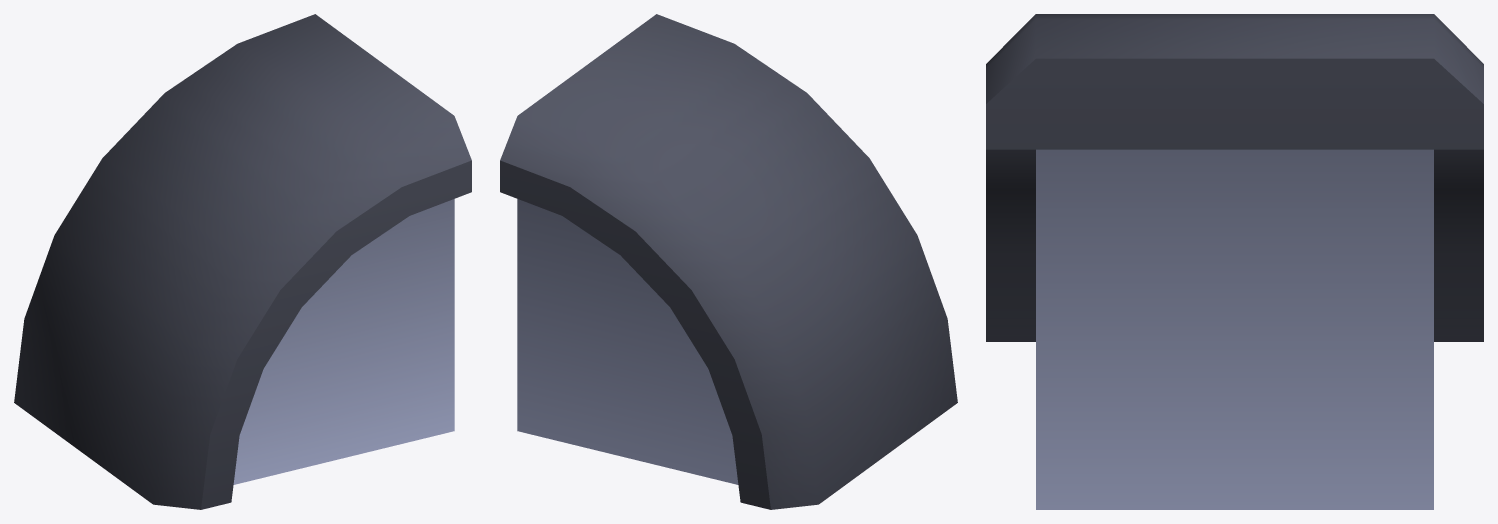
The model's file is block-snow-curve-half.glb.
3 views of the same model, side by side, from view 1: azimuth 30°, elevation 25°; view 2: azimuth 150°, elevation 25°; view 3: azimuth 270°, elevation 25° (orthographic). The views are drawn at different scales.
Visible parts, largest first — view 1: block-snow-curve-half; view 2: block-snow-curve-half; view 3: block-snow-curve-half.
Part boxes in pixels (<box>): block-snow-curve-half: <box>14,14,471,509</box>; block-snow-curve-half: <box>500,14,957,509</box>; block-snow-curve-half: <box>986,14,1483,509</box>.
Size of the model in its own units: 1 by 1 by 1.
